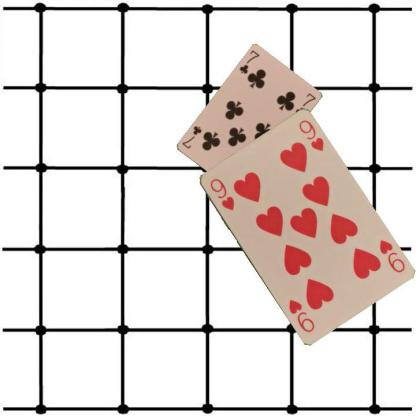7c: (237, 48, 260, 75)
9h: (376, 237, 406, 274), (207, 176, 236, 212)
